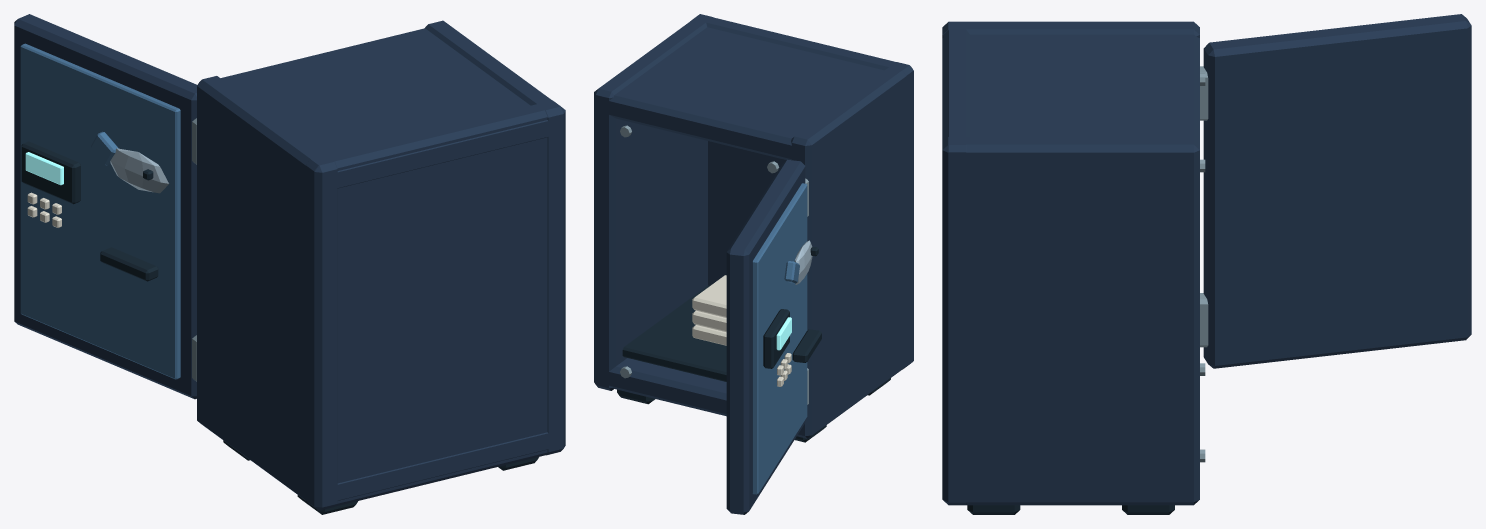
The model's file is digital_safe_open.glb.
3 views of the same model, side by side, from view 1: azimuth 30°, elevation 25°; view 2: azimuth 150°, elevation 25°; view 3: azimuth 270°, elevation 25° (orthographic). The views are drawn at different scales.
Parts seen in each view (by area): view 1: back, left, inset, top, door_panel, right, bottom, display, whale_badge, handle, screen; view 2: left, right, top, inset, back, door_panel, bottom, interior_floor, stored_token_note (×3), display, handle, whale_badge; view 3: right, door_panel, top, back, bottom, left.
Part boxes in pixels (x1,y1,x2,y2): back: (306, 100, 564, 510); left: (197, 76, 337, 510); inset: (20, 43, 180, 379); top: (197, 28, 565, 191); door_panel: (14, 14, 197, 399); right: (425, 20, 565, 455); bottom: (197, 402, 565, 504); display: (21, 141, 80, 204); whale_badge: (110, 148, 168, 193); handle: (100, 247, 158, 281); screen: (25, 152, 63, 185); left: (791, 62, 913, 438); right: (594, 14, 712, 390); top: (594, 27, 913, 162); inset: (752, 183, 807, 494); back: (692, 14, 913, 369); door_panel: (726, 159, 805, 514); bottom: (594, 349, 913, 433); interior_floor: (622, 285, 726, 381); stored_token_note (×3): (692, 275, 726, 345); display: (763, 309, 789, 368); handle: (792, 329, 821, 362); whale_badge: (794, 240, 812, 284); right: (942, 137, 1199, 505); door_panel: (1203, 14, 1471, 368); top: (942, 34, 1199, 172); back: (943, 21, 969, 505); bottom: (942, 480, 1199, 498); left: (942, 21, 1199, 38).
Bounding box in the file's own units: 1.02 × 1.1 × 1.4.
